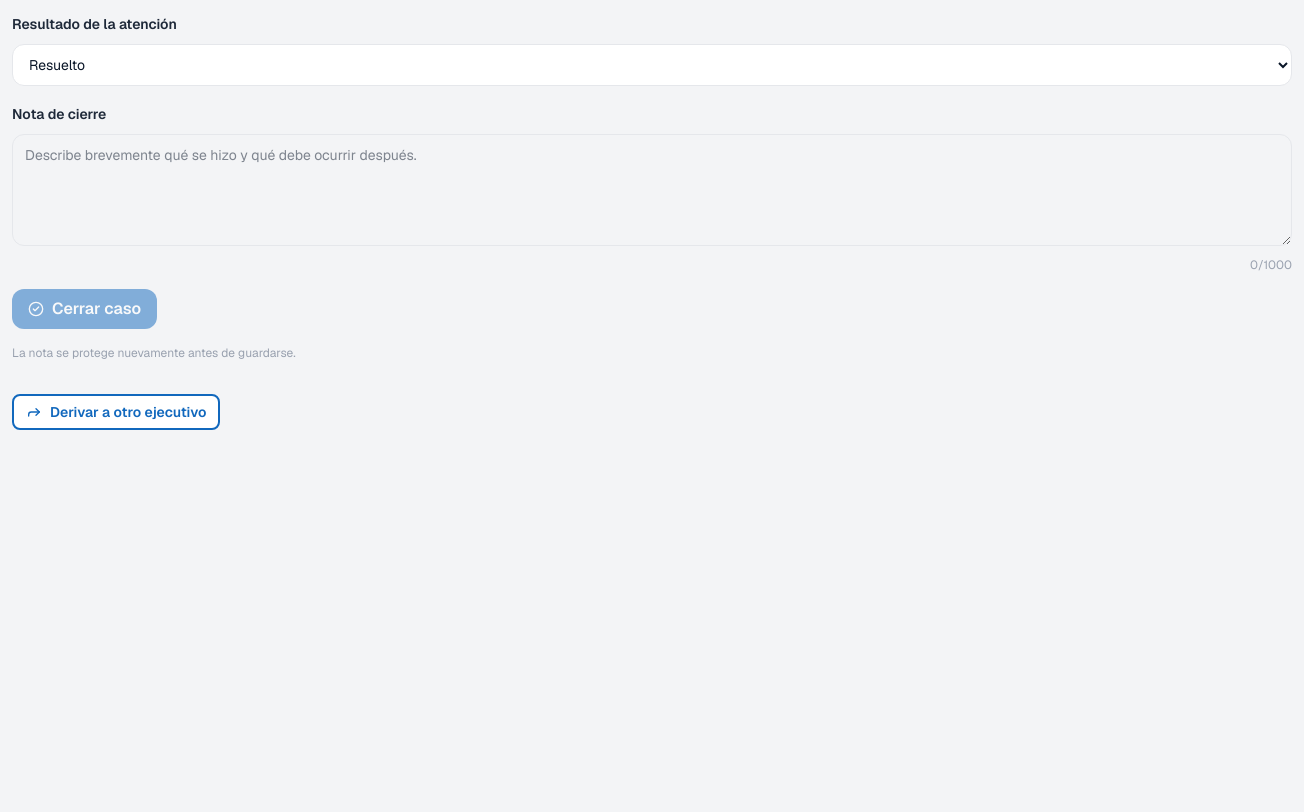
Test: case derivation › sends the chosen colleague and keeps the form open when the backend refuses
Step 1. Click the button "Derivar a otro ejecutivo" → (116, 412), box [12, 394, 220, 430]
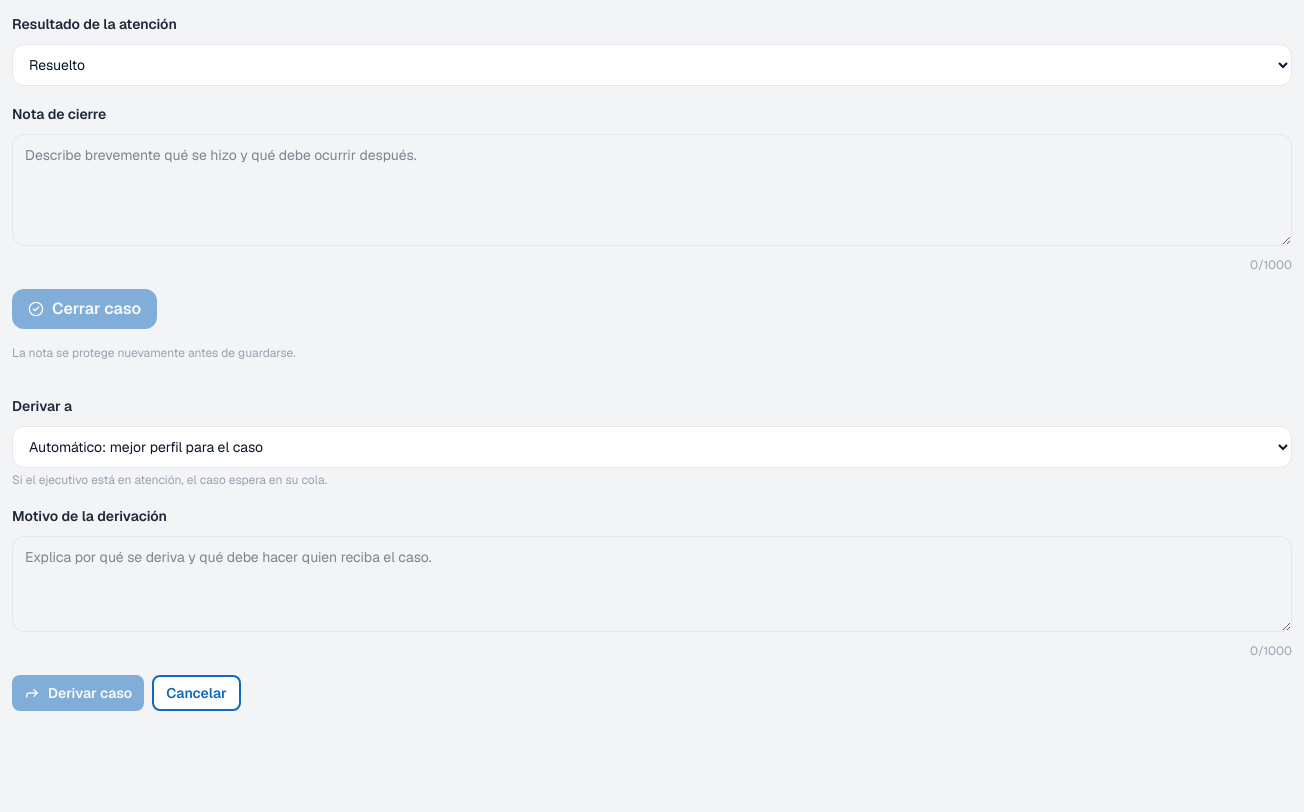
Step 2. Select "Patricia Quispe · Ventanilla 5 · En atención · 2 en cola" in the dropdown labelled "Derivar a" → (652, 447), box [12, 426, 1292, 468]
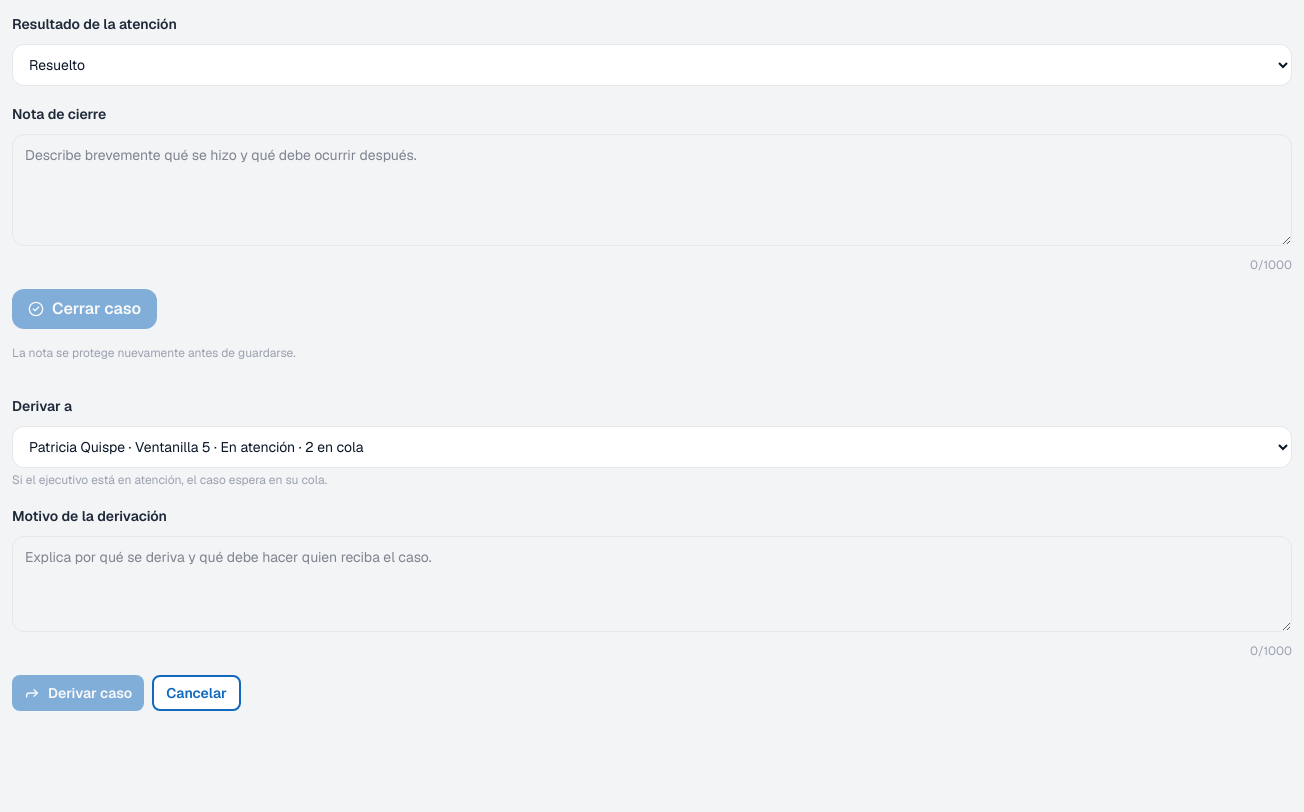
Step 3. Replace the text in the text box labelled "Motivo de la derivación" with "El cliente necesita revisar un crédito" → (652, 584), box [12, 536, 1292, 632]
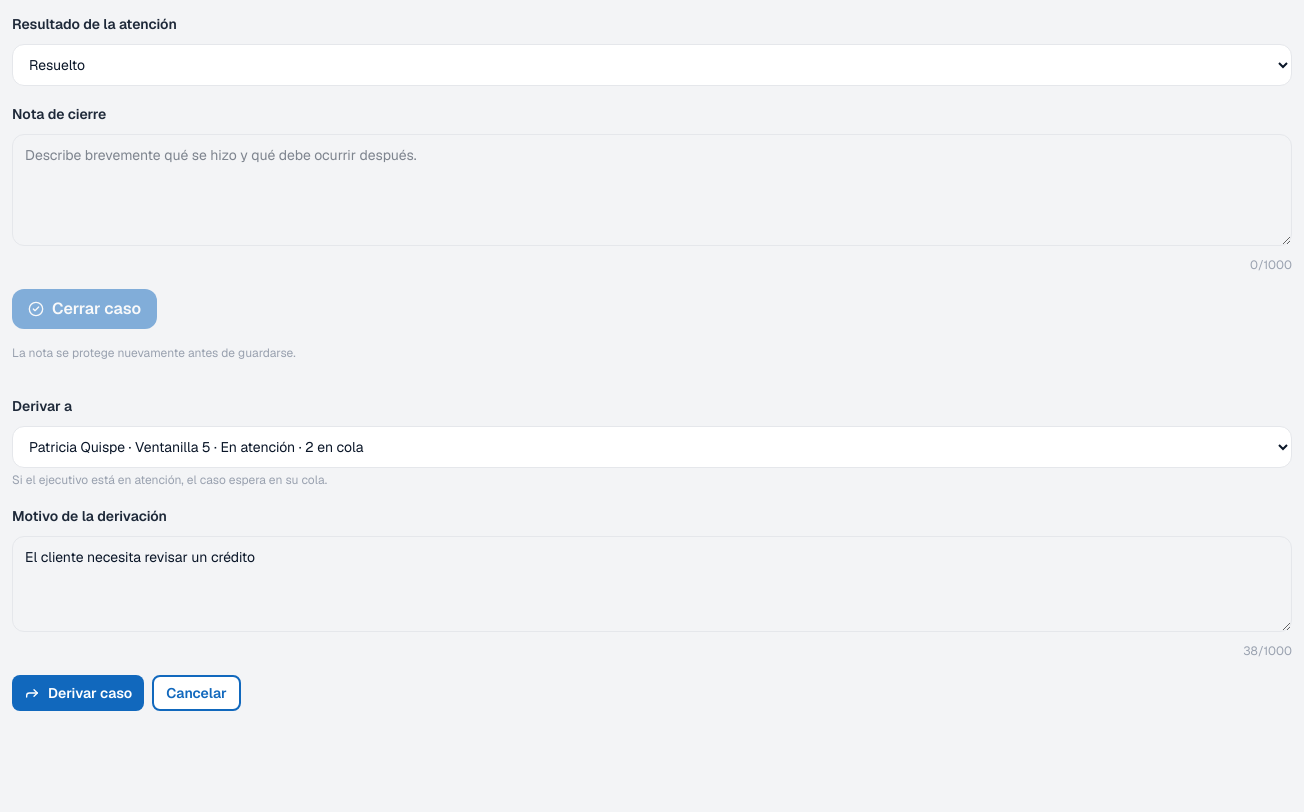
Step 4. Click the button "Derivar caso" → (78, 693), box [12, 675, 144, 711]
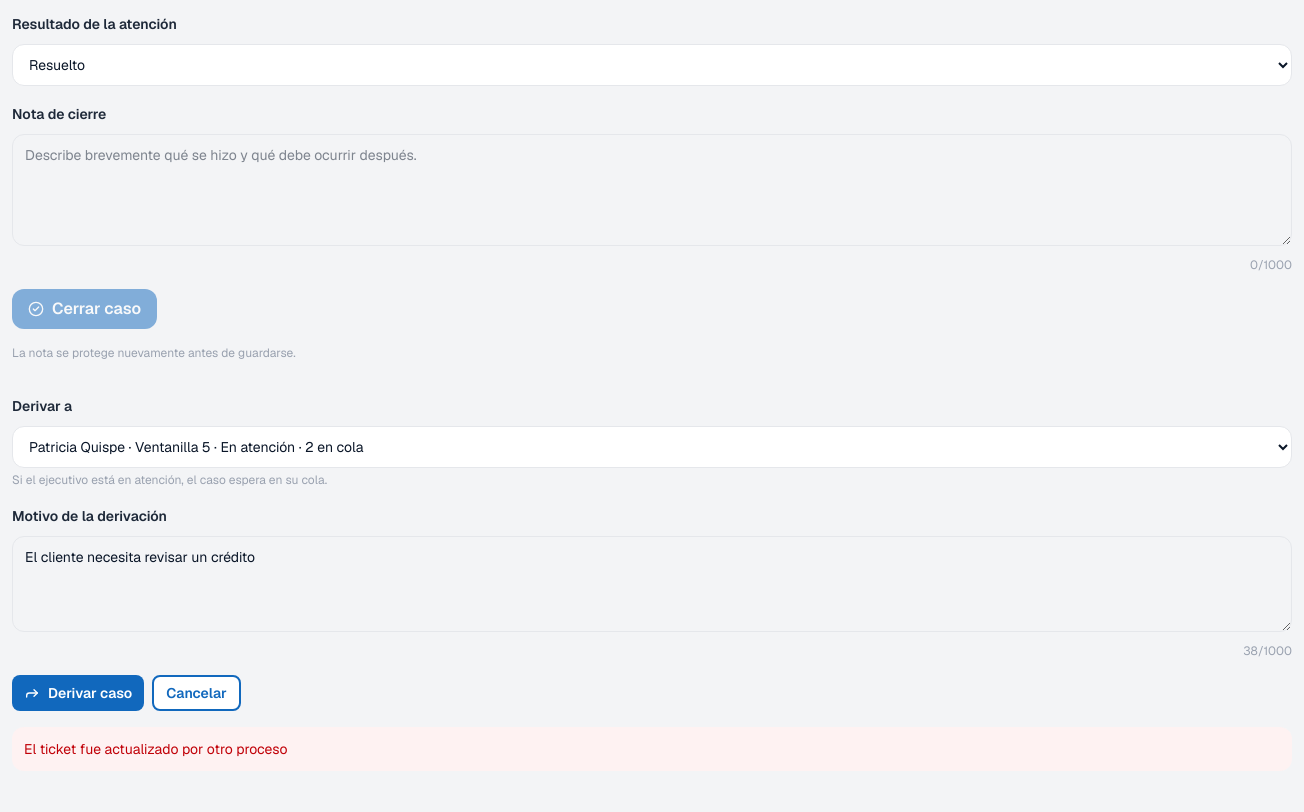
Check: the message reads "El ticket fue actualizado por otro proceso", box [24, 740, 287, 758]
